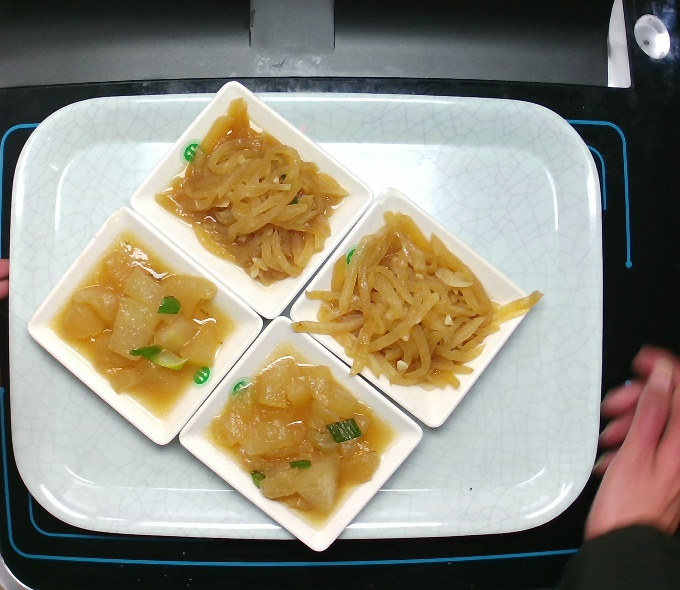wcq-DongGua: (50, 231, 236, 419), (212, 346, 394, 522)
wcq-LuoBoSi: (286, 204, 542, 394), (151, 94, 354, 287)
